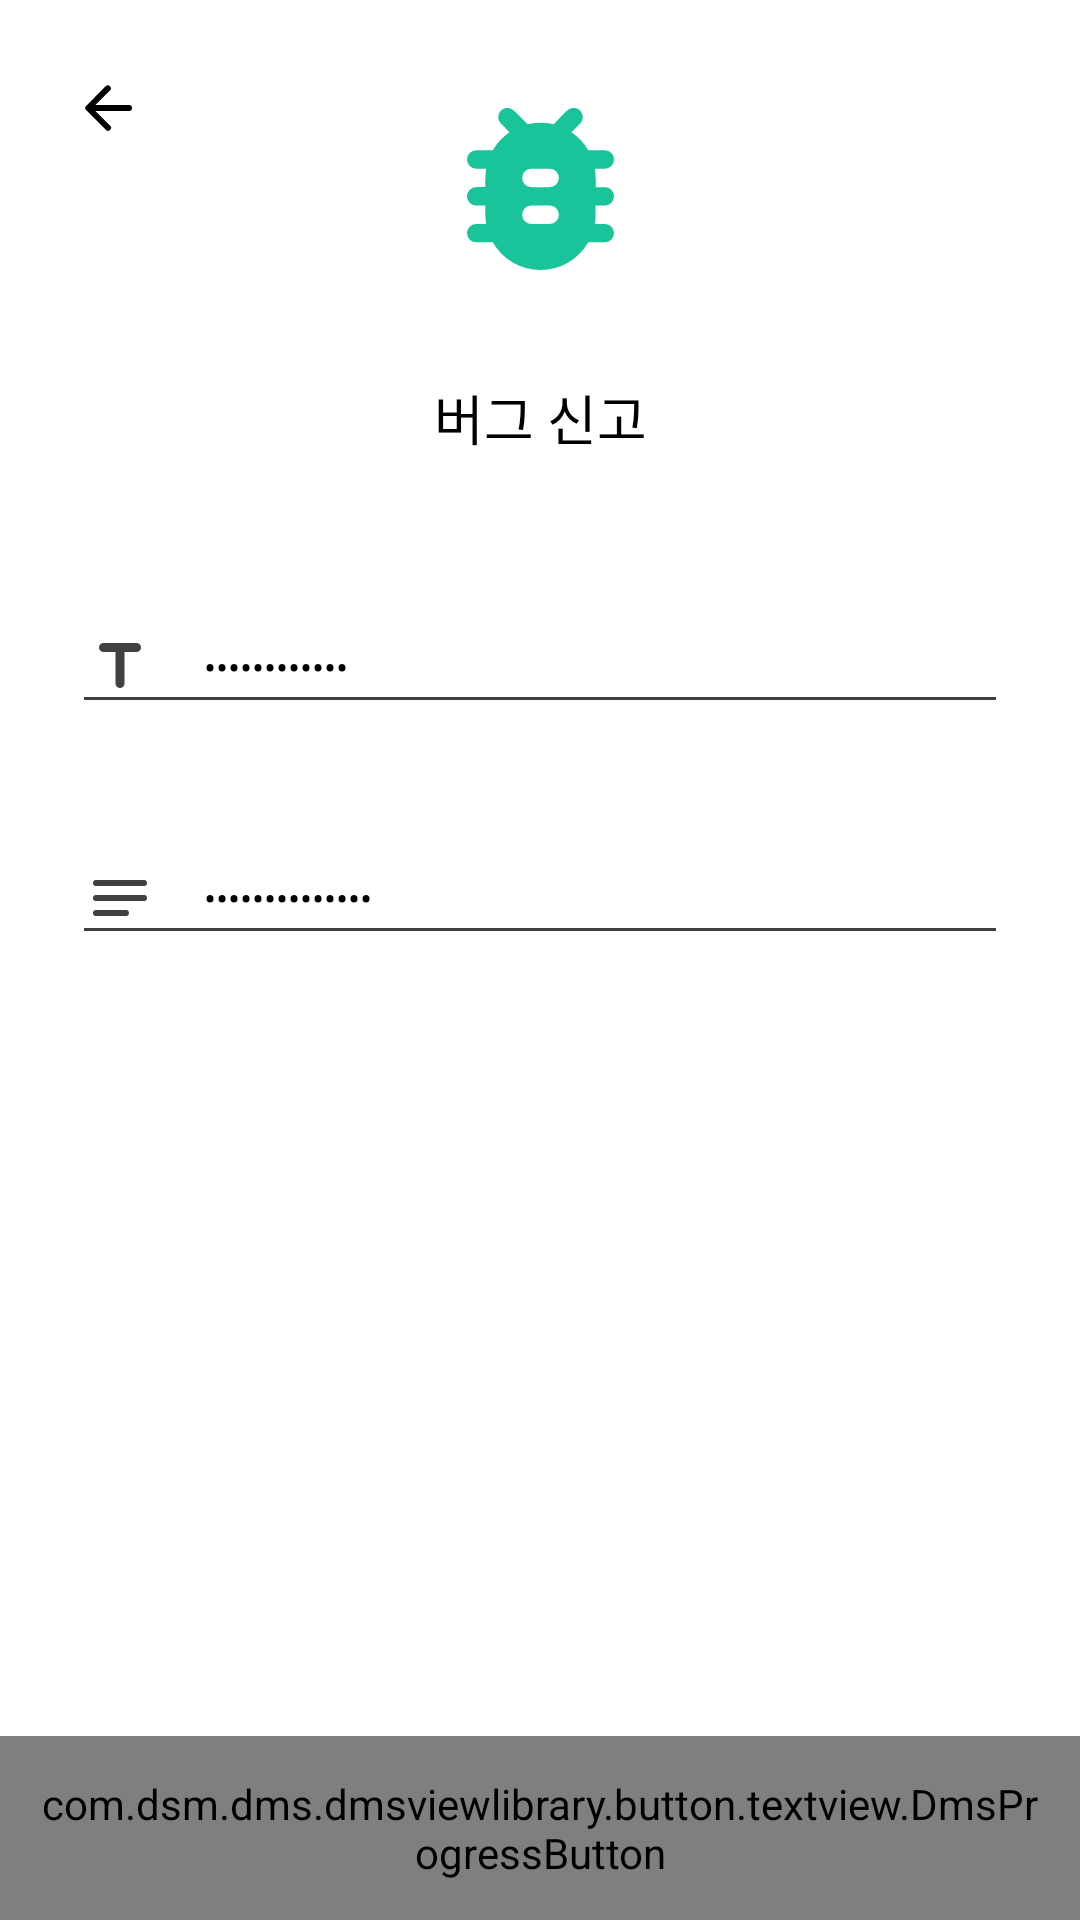

Icons on this 1080x1920 Android screen, each with the point to tap as (x=x, y=y):
back: (x=108, y=108)
bug: (x=540, y=189)
